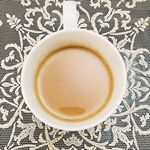cups: (18, 26, 130, 132)
